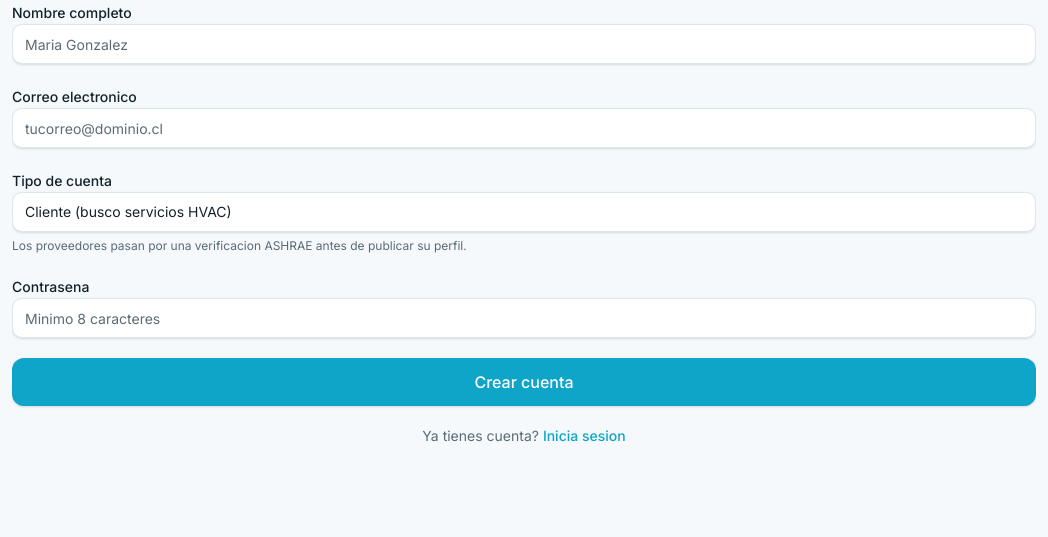
Test: AuthForm (registro) › exige nombre, email y contrasena y ofrece la seleccion de rol
Expected: the dropdown labelled "Tipo de cuenta" shows "Cliente (busco servicios HVAC)", [12,192,1036,232]
Click the button "Crear cuenta". click: (524,382)
box: [12,358,1036,406]
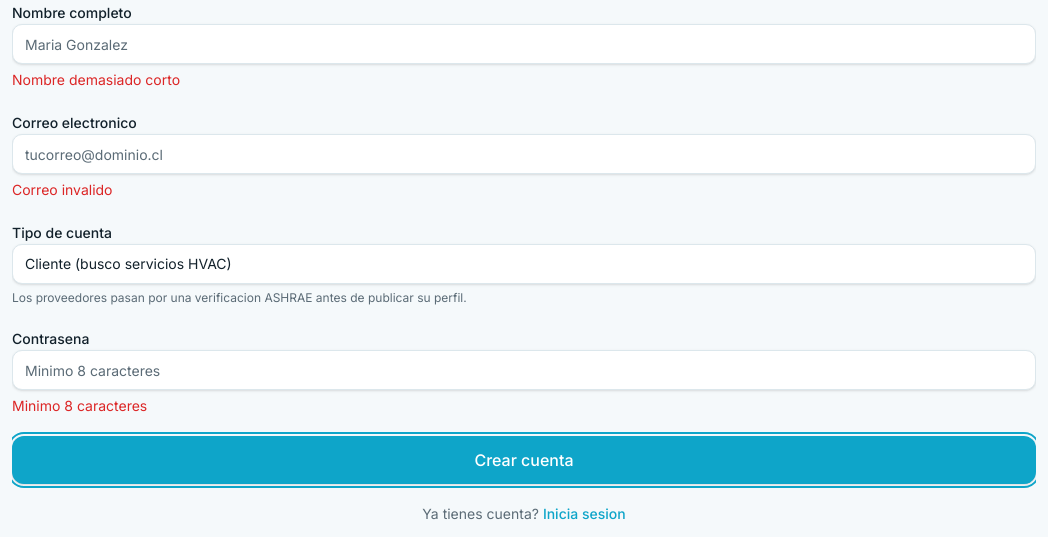
Now the text "Nombre demasiado corto" is shown, box [12,71,180,88]
Now the text "Correo invalido" is shown, box [12,181,112,198]
Now the text "Minimo 8 caracteres" is shown, box [12,397,147,414]
